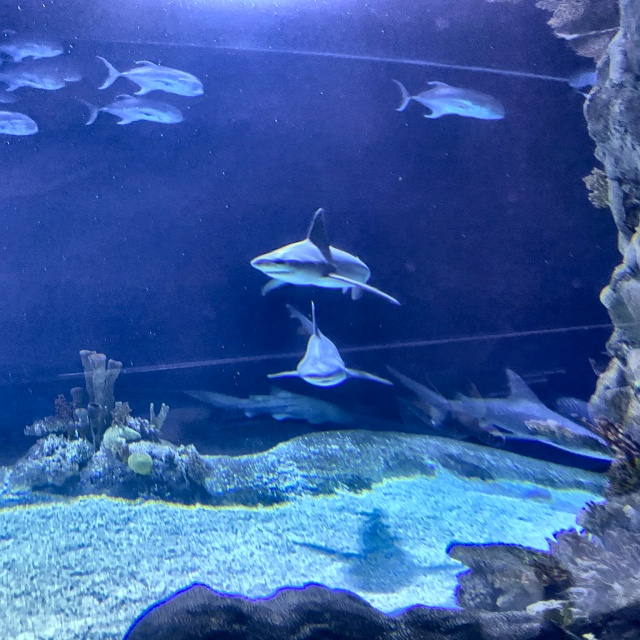fish: (398, 77, 508, 122), (105, 55, 205, 96), (86, 96, 188, 123), (0, 28, 71, 58), (0, 65, 67, 92), (0, 64, 87, 82), (0, 113, 45, 139)
shark: (425, 374, 618, 463), (247, 218, 389, 300), (263, 316, 366, 389), (204, 392, 355, 425)
